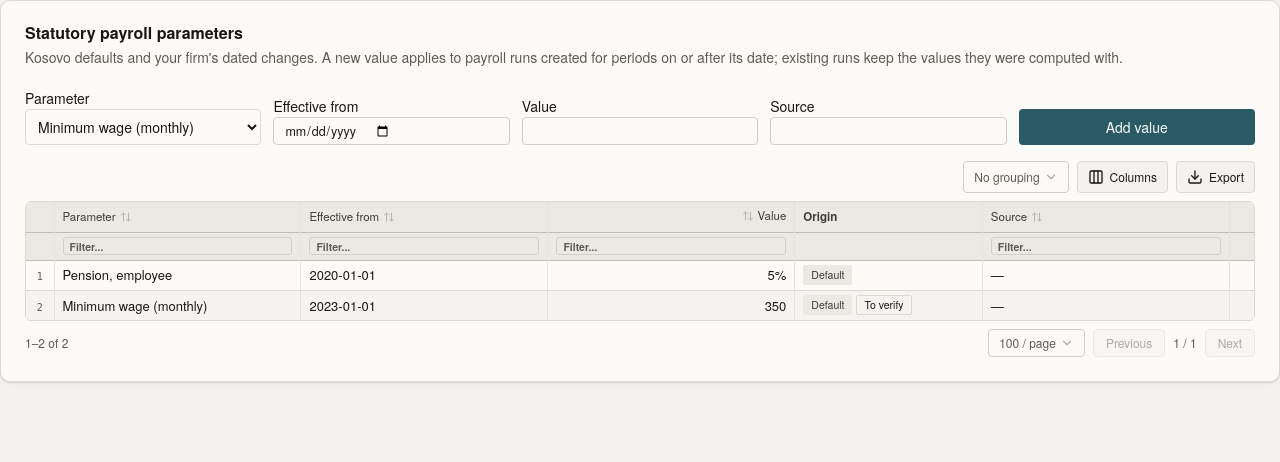
it: StatutoryParametersSettings › refuses to submit without a date
The width and height of the screenshot is (1280, 462).
Expected: the text "5%" is shown, [768,265,786,284]
Type "400" into the field labelled "Value".
click(640, 131); type("400")  # box [522,117,758,145]
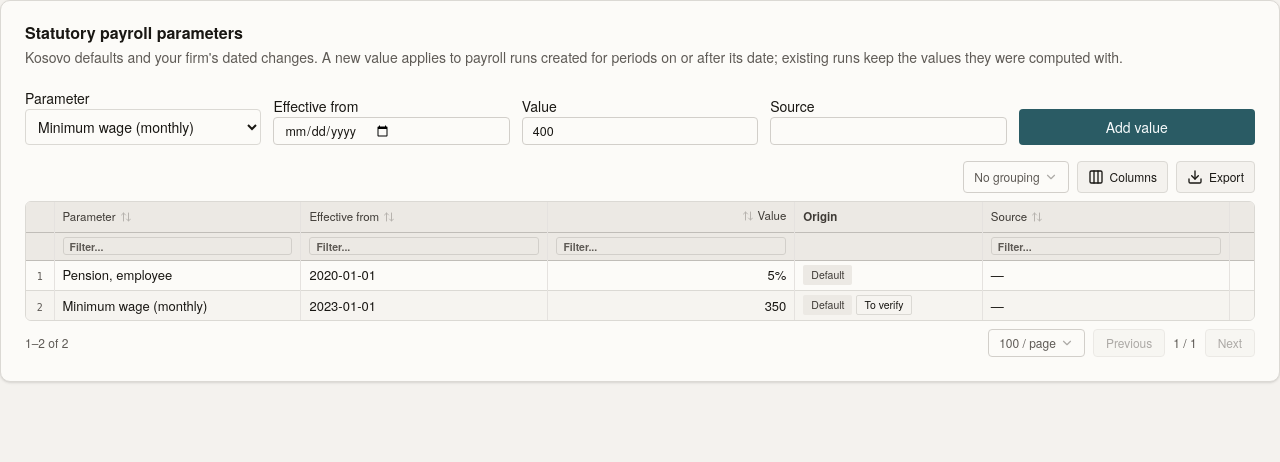
Click the button "Add value".
click(1137, 127)  # box [1019,109,1255,145]
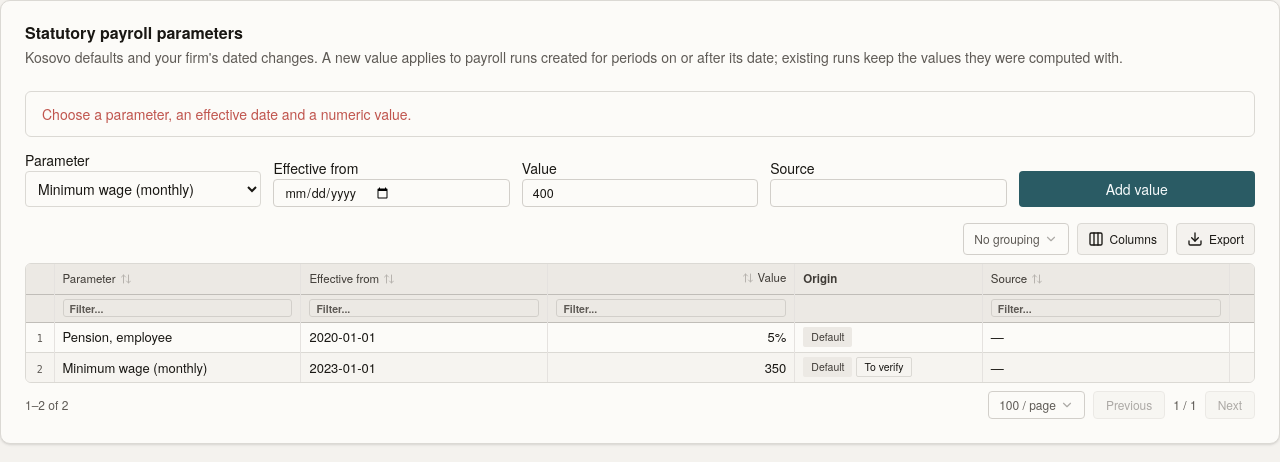
Expected: the text "Choose a parameter, an effective date and a numeric value." is shown, [42,104,412,124]
